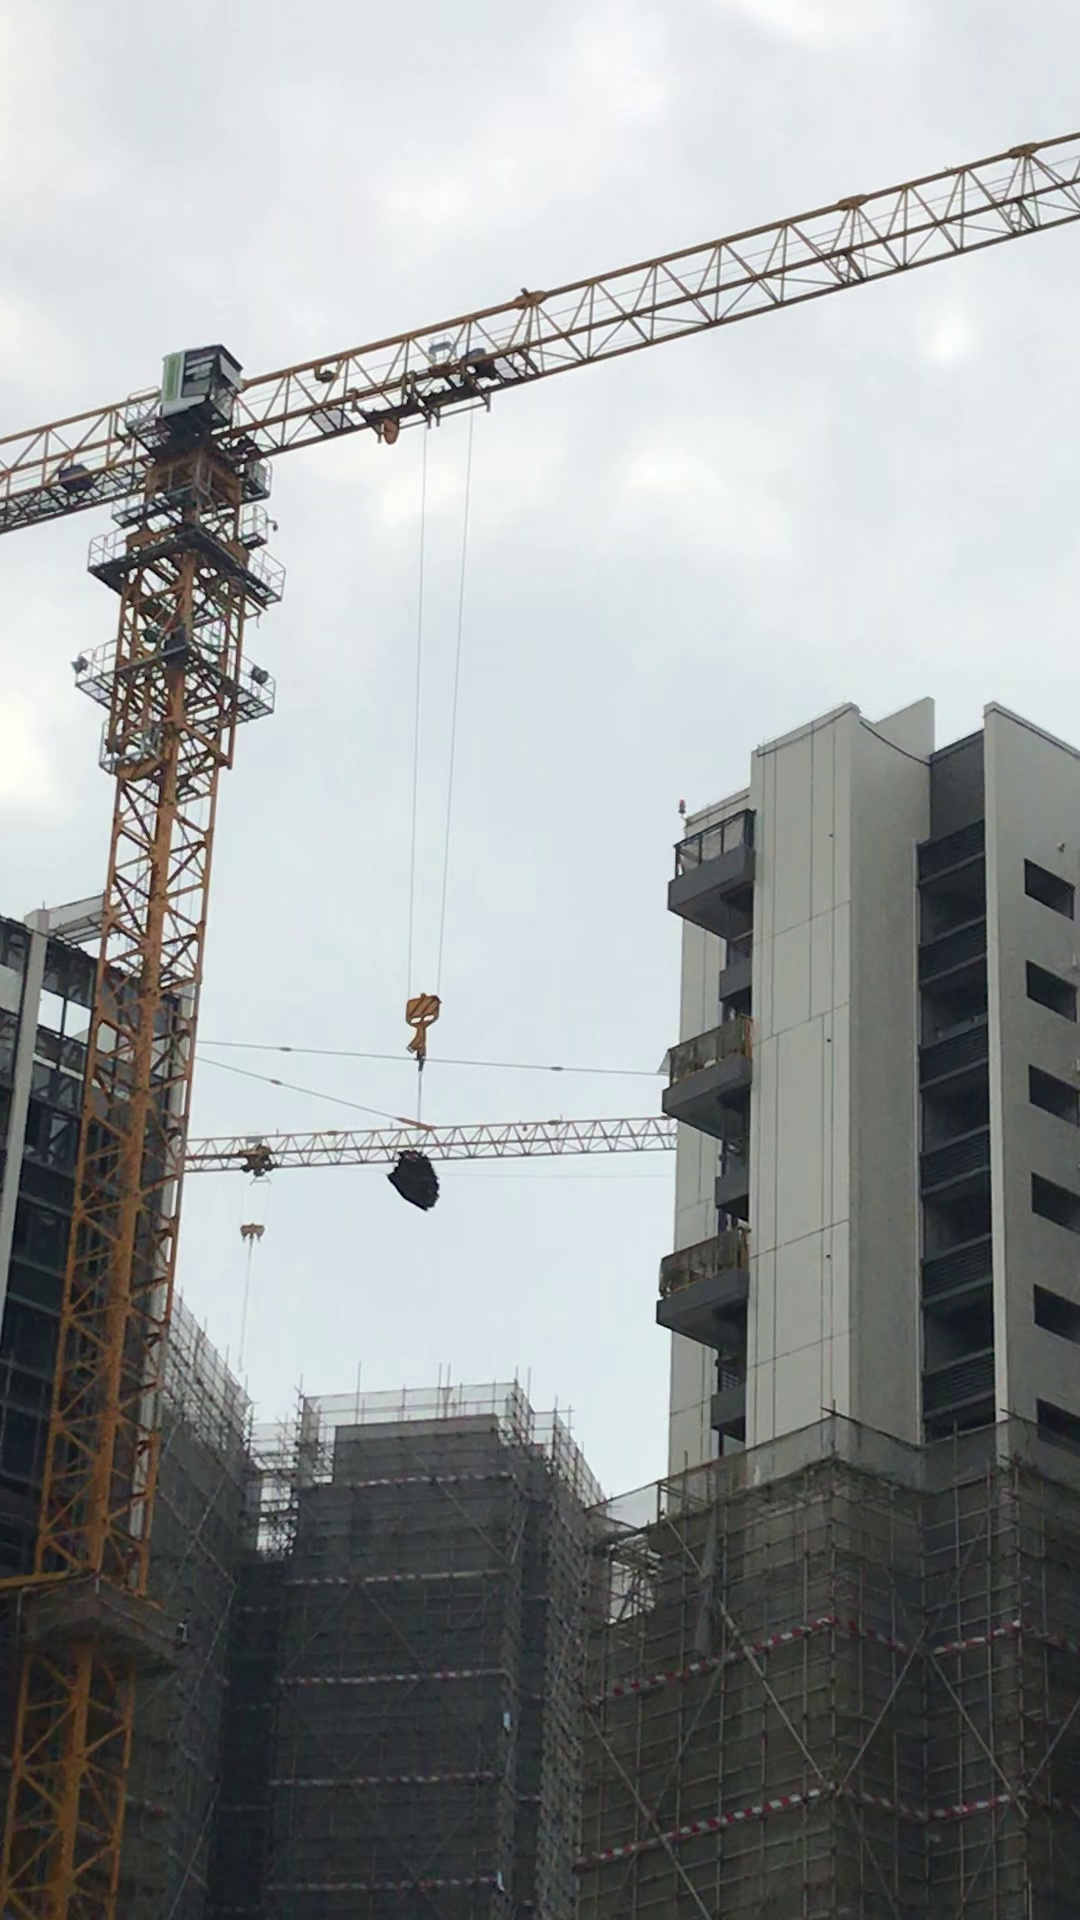hook: (401, 989, 448, 1077), (229, 1218, 274, 1247)
